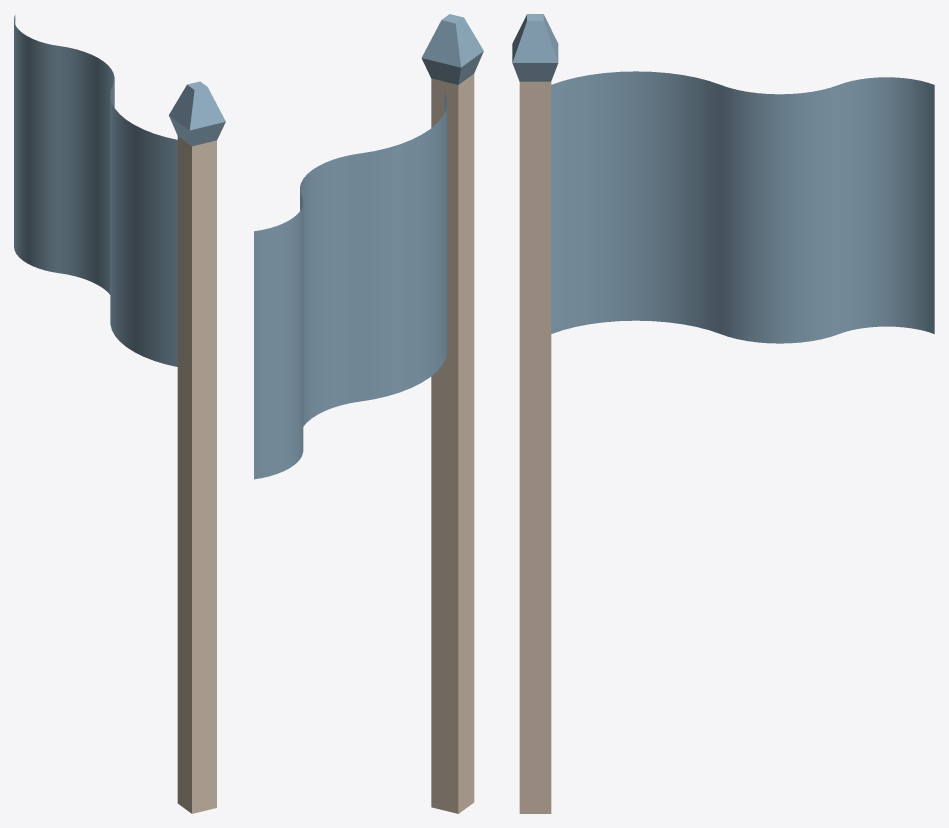
The model's file is flagBlueWide.glb.
The picture shows the model from 3 angles, left to right: view 1: azimuth 30°, elevation 25°; view 2: azimuth 150°, elevation 25°; view 3: azimuth 270°, elevation 25°; orthographic projection. The views are drawn at different scales.
Visible parts, largest first — view 1: Group 284, flagBlueWide; view 2: Group 284, flagBlueWide; view 3: Group 284, flagBlueWide.
Part boxes in pixels (<box>): Group 284: <box>14,15,177,366</box>; flagBlueWide: <box>169,81,225,813</box>; Group 284: <box>254,92,447,479</box>; flagBlueWide: <box>421,14,483,813</box>; Group 284: <box>551,71,934,343</box>; flagBlueWide: <box>512,14,558,813</box>.
Bounding box in the file's own units: 0.4988 × 7.92 × 3.84.
